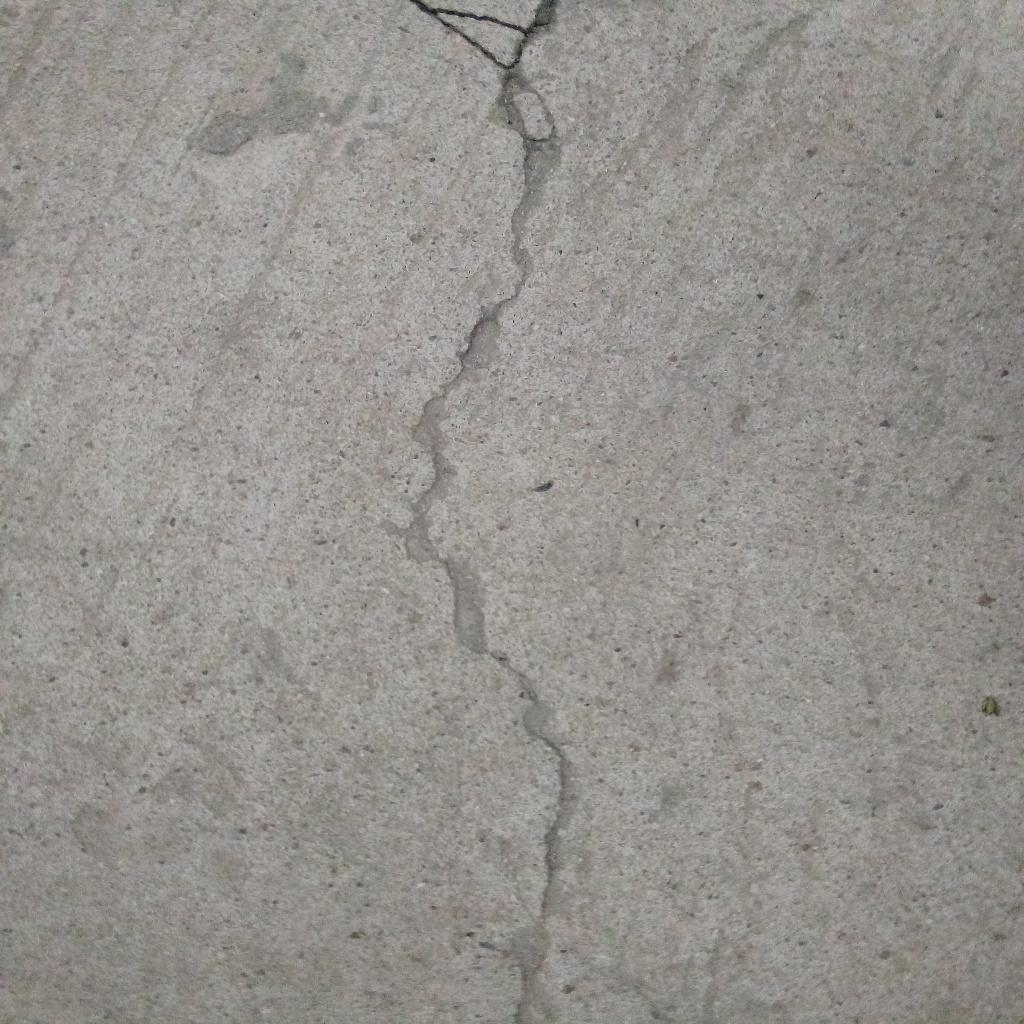Crack: (380, 1, 586, 1024)
